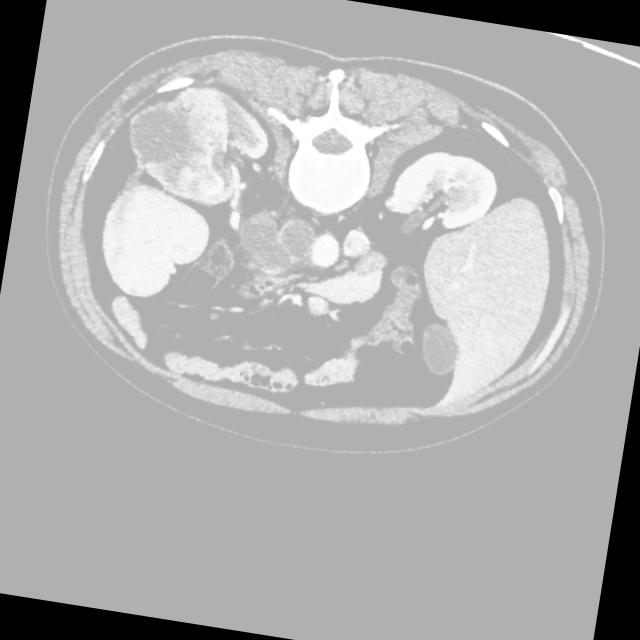TUMOR: (107, 131, 546, 400)
